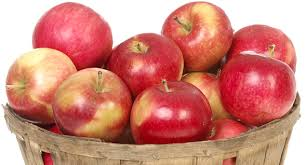apple: (223, 55, 301, 124), (33, 3, 110, 70), (54, 69, 130, 136), (134, 88, 213, 146), (113, 34, 186, 93), (161, 3, 232, 62), (8, 53, 77, 112), (229, 26, 305, 72), (173, 71, 233, 123)
